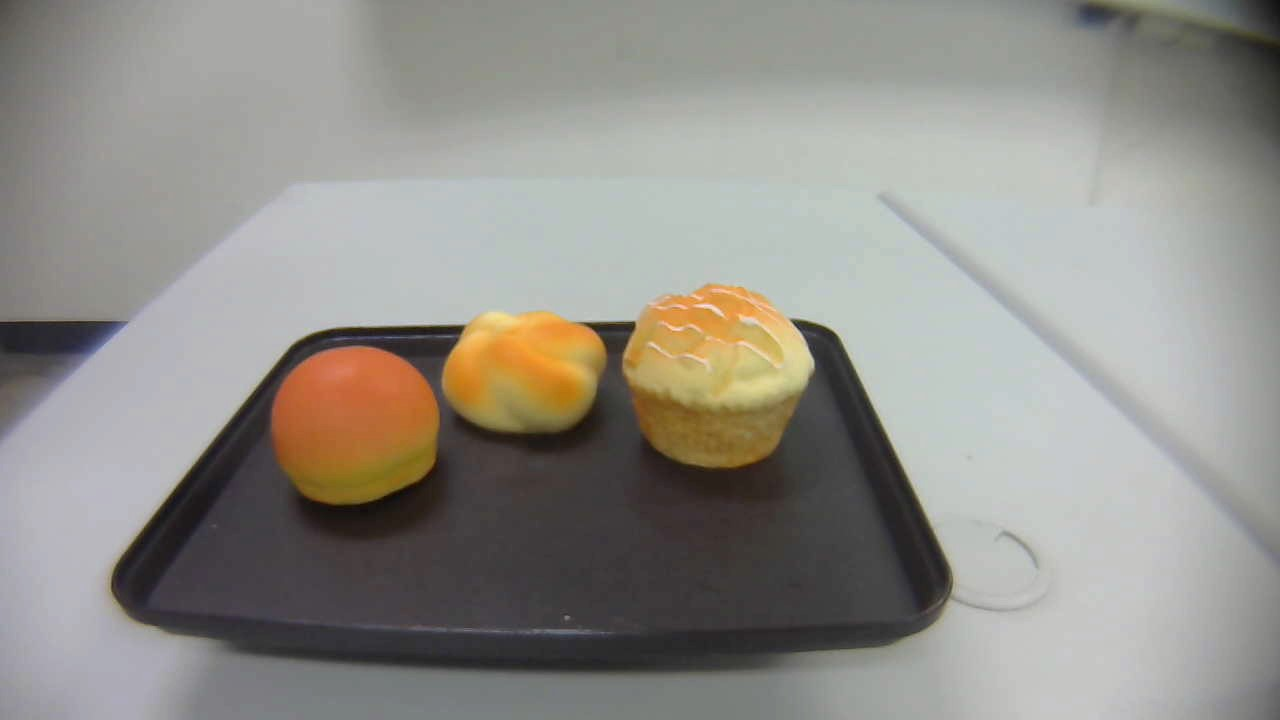bun: (270, 345, 442, 505)
cupcake: (621, 281, 817, 468)
twist bread: (442, 310, 607, 436)
